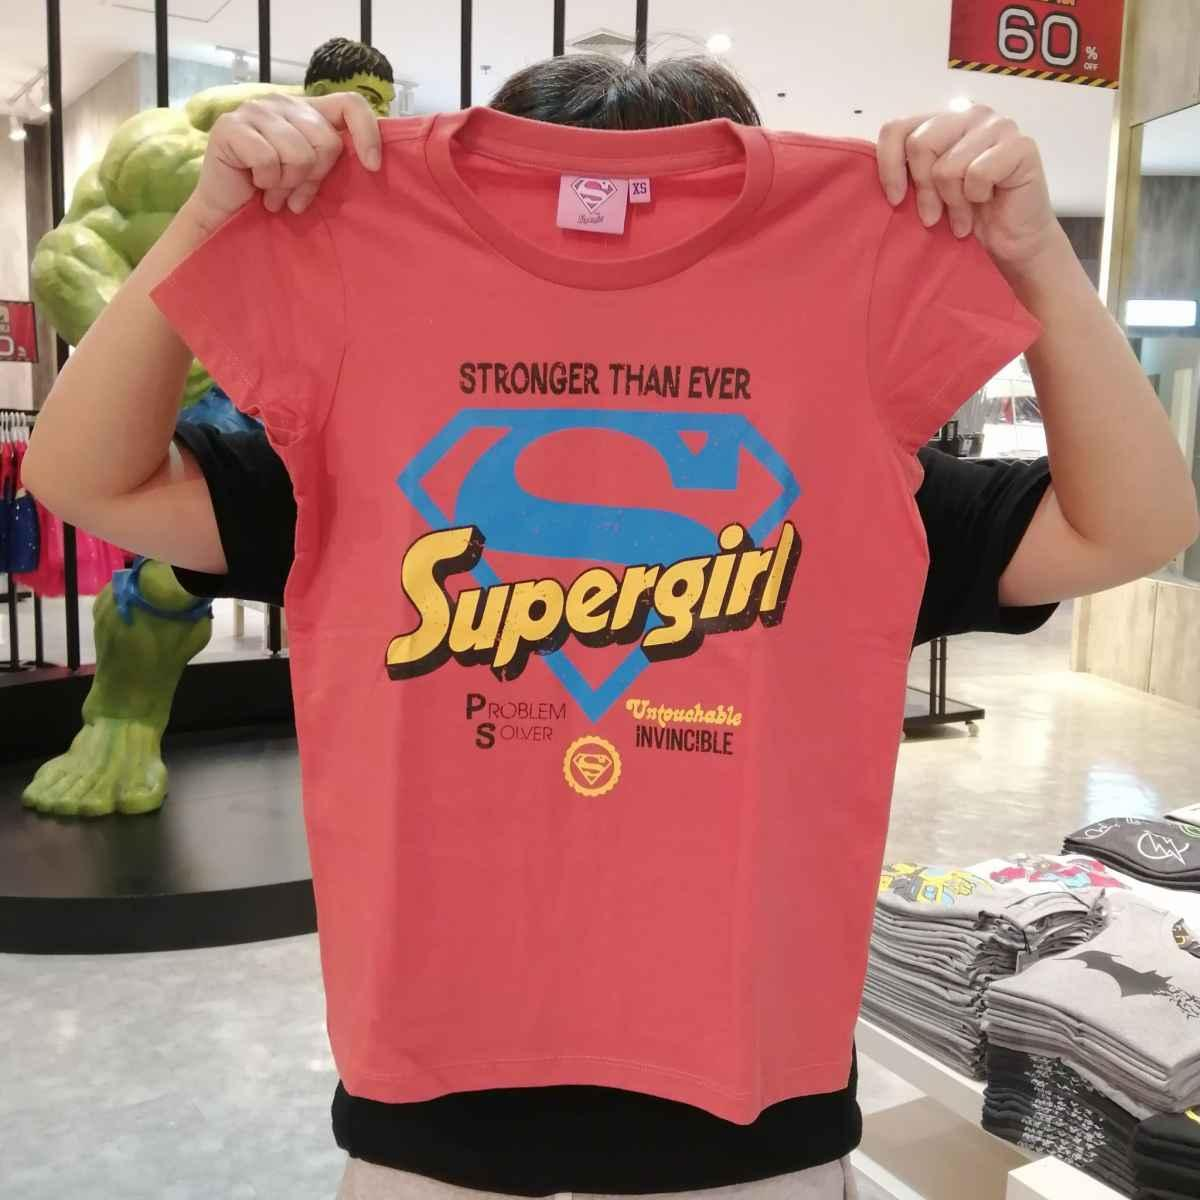Tshirt: (132, 85, 1049, 1133)
